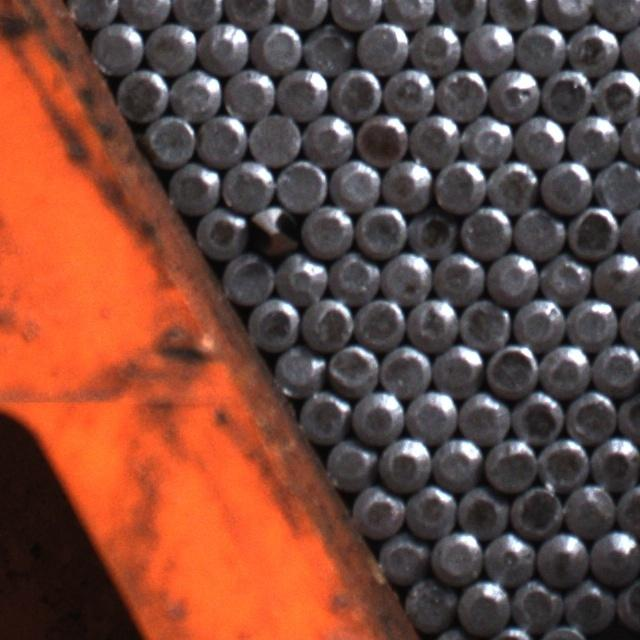tool: (539, 64, 594, 120), (355, 110, 411, 164), (483, 435, 537, 490), (247, 110, 301, 164), (351, 293, 405, 347), (220, 159, 274, 213), (144, 19, 197, 73), (274, 157, 328, 210), (378, 436, 431, 490), (300, 294, 353, 348), (380, 155, 433, 209), (222, 250, 275, 304), (329, 65, 382, 118), (197, 20, 250, 73), (247, 296, 300, 349), (195, 112, 247, 166), (276, 66, 328, 120), (486, 342, 538, 396), (322, 438, 376, 490), (538, 435, 589, 490), (562, 481, 613, 536), (430, 529, 482, 582), (354, 203, 406, 256), (223, 67, 275, 120), (456, 484, 509, 536), (166, 161, 218, 214), (118, 66, 170, 119), (192, 206, 244, 259), (403, 576, 455, 629), (302, 114, 354, 166), (170, 68, 222, 120), (352, 390, 404, 442), (297, 390, 349, 442), (456, 579, 508, 631), (301, 203, 353, 255), (514, 388, 566, 440), (327, 342, 379, 394), (458, 296, 510, 348), (406, 293, 458, 345), (535, 530, 587, 582), (376, 532, 428, 584), (508, 486, 560, 538), (329, 157, 380, 210), (485, 159, 536, 212), (565, 21, 618, 72), (588, 432, 639, 485), (540, 159, 590, 213), (566, 112, 616, 166), (252, 203, 302, 257), (459, 205, 511, 256), (436, 66, 487, 118), (356, 20, 408, 71), (512, 295, 564, 346), (538, 342, 589, 394), (383, 66, 434, 118), (513, 113, 564, 165), (488, 67, 539, 119), (459, 391, 510, 443), (379, 344, 430, 396), (89, 20, 140, 72), (145, 112, 196, 164), (588, 529, 639, 581), (566, 205, 616, 258), (405, 483, 455, 536), (434, 157, 484, 210), (513, 206, 564, 257), (431, 437, 482, 488), (303, 21, 354, 72), (462, 20, 514, 70), (406, 389, 456, 441), (566, 390, 618, 440), (484, 531, 534, 583), (432, 342, 482, 394), (276, 251, 326, 303), (274, 343, 324, 395), (509, 578, 561, 628), (352, 487, 404, 537), (565, 296, 615, 347), (252, 20, 302, 71), (380, 250, 431, 300), (409, 21, 460, 71), (328, 250, 379, 300), (411, 112, 462, 162), (593, 64, 640, 118), (514, 22, 564, 72), (590, 342, 640, 392), (433, 250, 483, 300), (486, 251, 536, 301), (462, 113, 511, 164), (539, 252, 590, 301), (407, 208, 458, 257), (564, 579, 613, 630), (594, 158, 640, 212), (591, 252, 640, 302), (436, 0, 488, 28), (172, 0, 225, 27), (225, 0, 277, 27), (488, 0, 539, 27), (120, 0, 172, 26), (64, 0, 116, 26), (330, 0, 380, 27), (278, 0, 328, 26), (543, 0, 593, 26), (614, 580, 640, 630), (593, 0, 640, 27), (615, 482, 640, 532), (616, 391, 640, 442), (384, 0, 434, 24), (617, 296, 640, 348)
